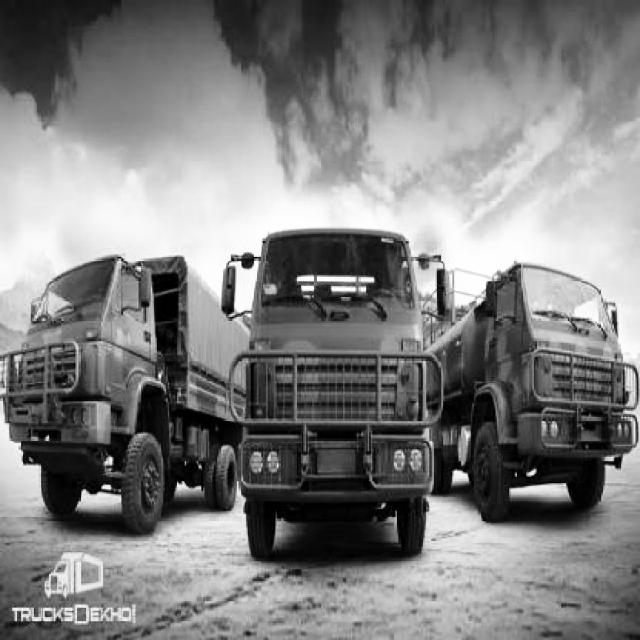HCV: (233, 191, 432, 593), (28, 234, 235, 548), (409, 278, 636, 521)
